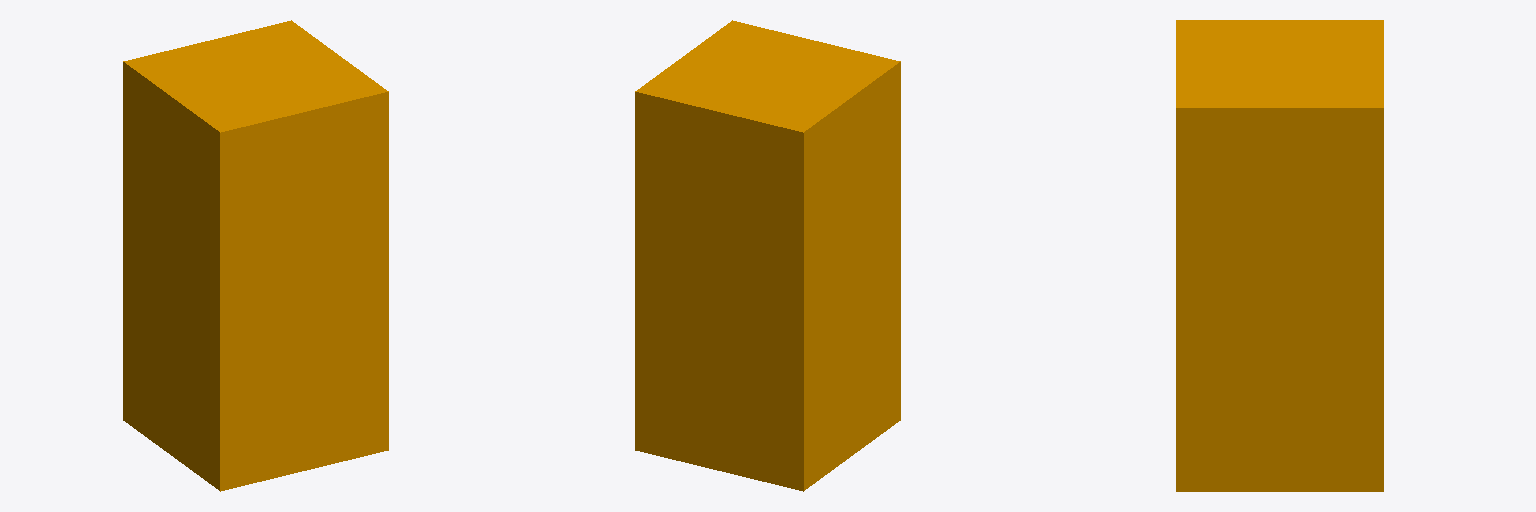
URDF robot description (prensa):
<?xml version="1.0"?>
<!-- Componente "prensa" de la biblioteca del contrato 2.0. Origen = centro geométrico. -->
<robot name="prensa">
  <link name="prensa">
    <visual><geometry><box size="0.13 0.13 0.265"/></geometry></visual>
    <collision><geometry><box size="0.13 0.13 0.265"/></geometry></collision>
  </link>
</robot>

--- Render facts (derived) ---
Views: 3 orthographic renders of the robot side by side, from view 1: azimuth 30°, elevation 25°; view 2: azimuth 150°, elevation 25°; view 3: azimuth 270°, elevation 25°.
Robot: prensa — 1 links, 0 joints (none); root link prensa; default pose: all joints at 0.
Visible links, largest first — view 1: prensa; view 2: prensa; view 3: prensa.
Boxes of the visible links, bbox=[...] form: prensa: bbox=[123, 20, 388, 491]; prensa: bbox=[635, 20, 900, 491]; prensa: bbox=[1176, 20, 1383, 491].
Bounding box of the posed robot: 0.13 × 0.13 × 0.265 m (x, y, z).
Geometry: primitives only (box / cylinder / sphere), no mesh files.
